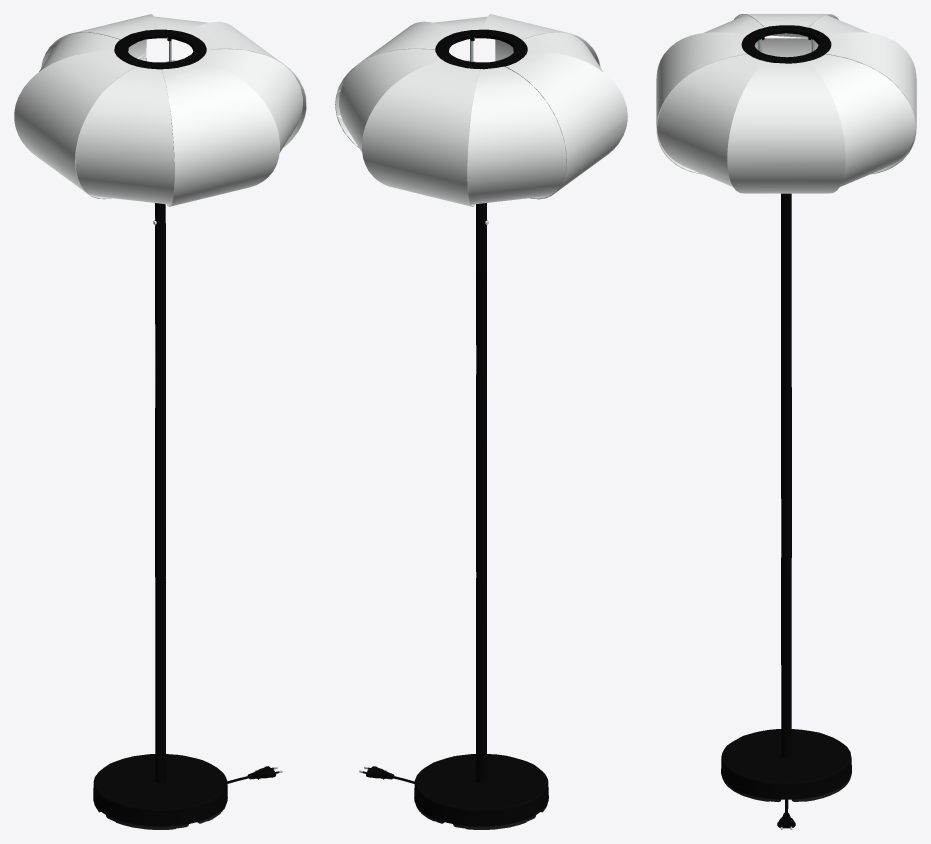
File: BYGGKORN floor lamp.glb
3 views of the same model, side by side, from view 1: azimuth 30°, elevation 25°; view 2: azimuth 150°, elevation 25°; view 3: azimuth 270°, elevation 25° (orthographic). The views are drawn at different scales.
Visible parts, largest first — view 1: 90533433; view 2: 90533433; view 3: 90533433.
Boxes of the visible parts, x1,y1,x2,y2 form: 90533433: [14, 14, 306, 829]; 90533433: [335, 14, 627, 829]; 90533433: [656, 14, 916, 829].
Bounding box in the file's own units: 0.4849 × 1.48 × 0.4765.
Materials: 1 (1 with a texture image).
